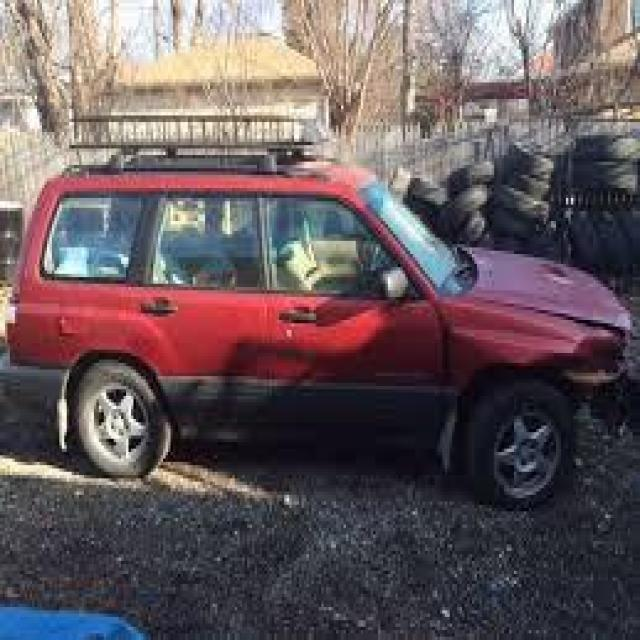damaged: (544, 303, 638, 452)
